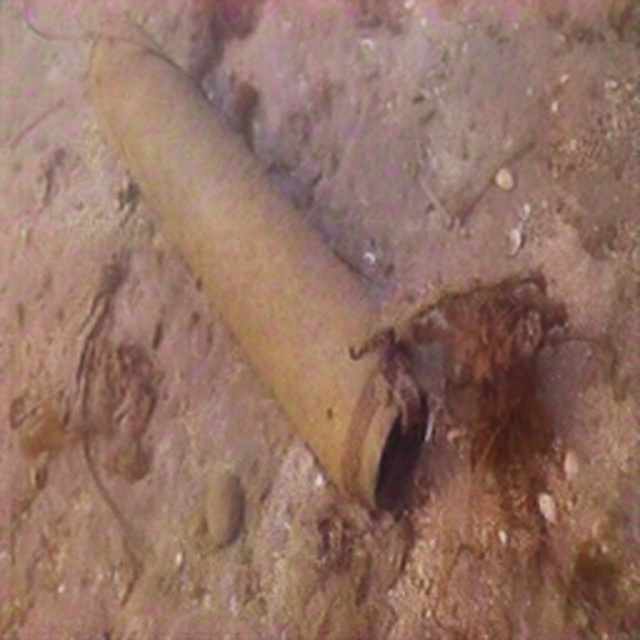mine: (87, 14, 429, 513)
